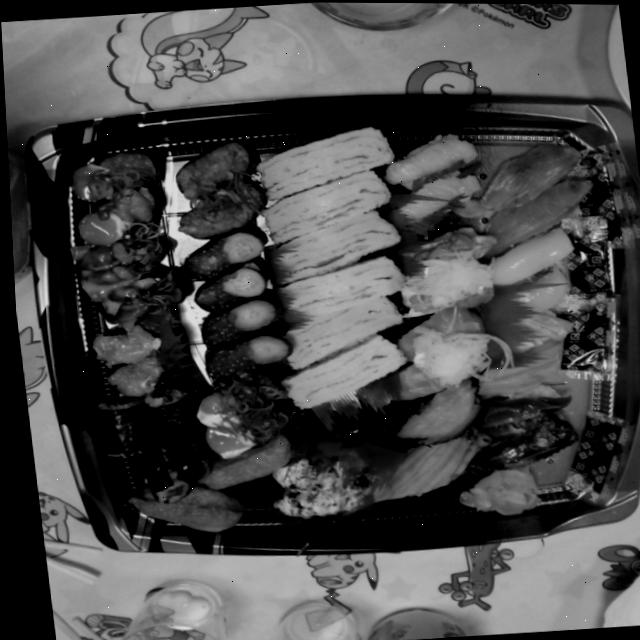寿司卷物: (10, 77, 640, 596)
